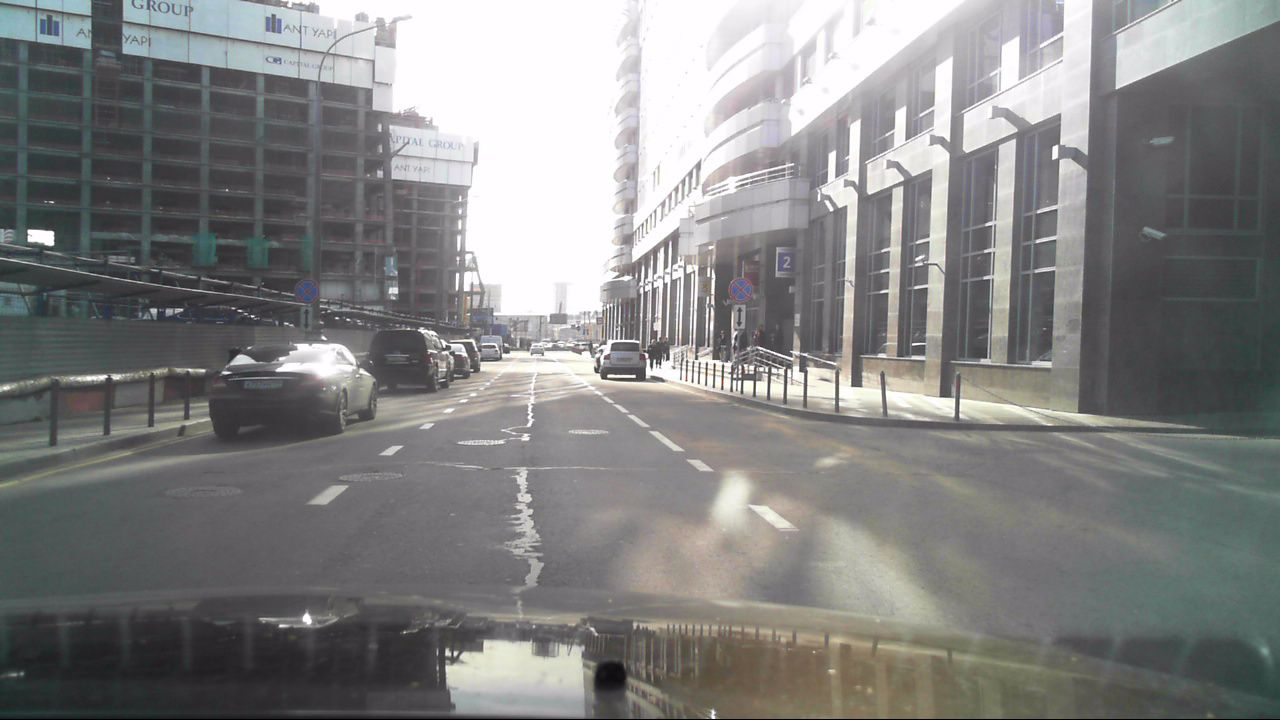No Parking: (728, 275, 752, 302)
